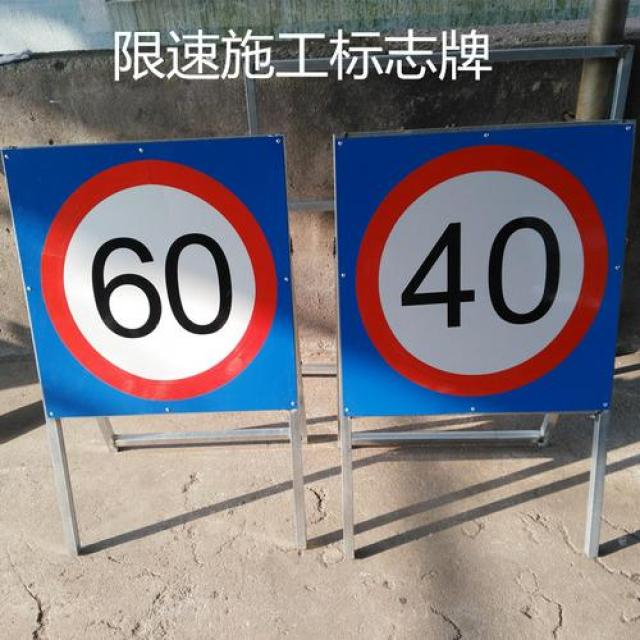speed limit 40: (353, 147, 608, 397)
speed limit 60: (41, 158, 277, 400)
